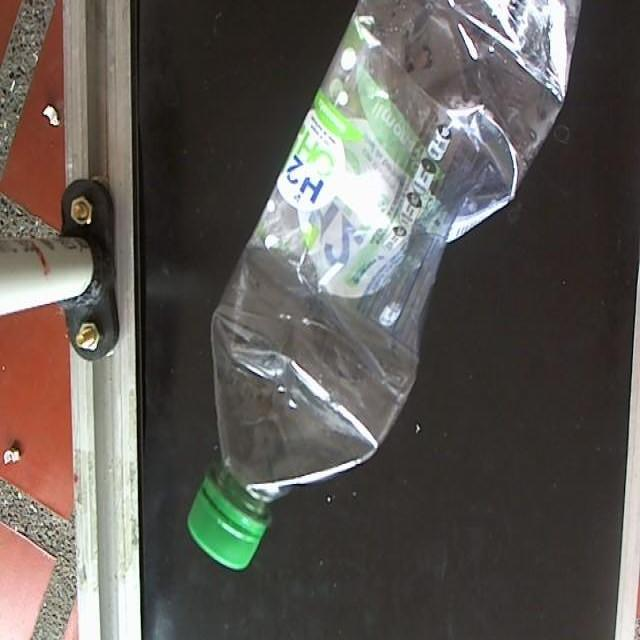defect: (183, 0, 586, 576)
